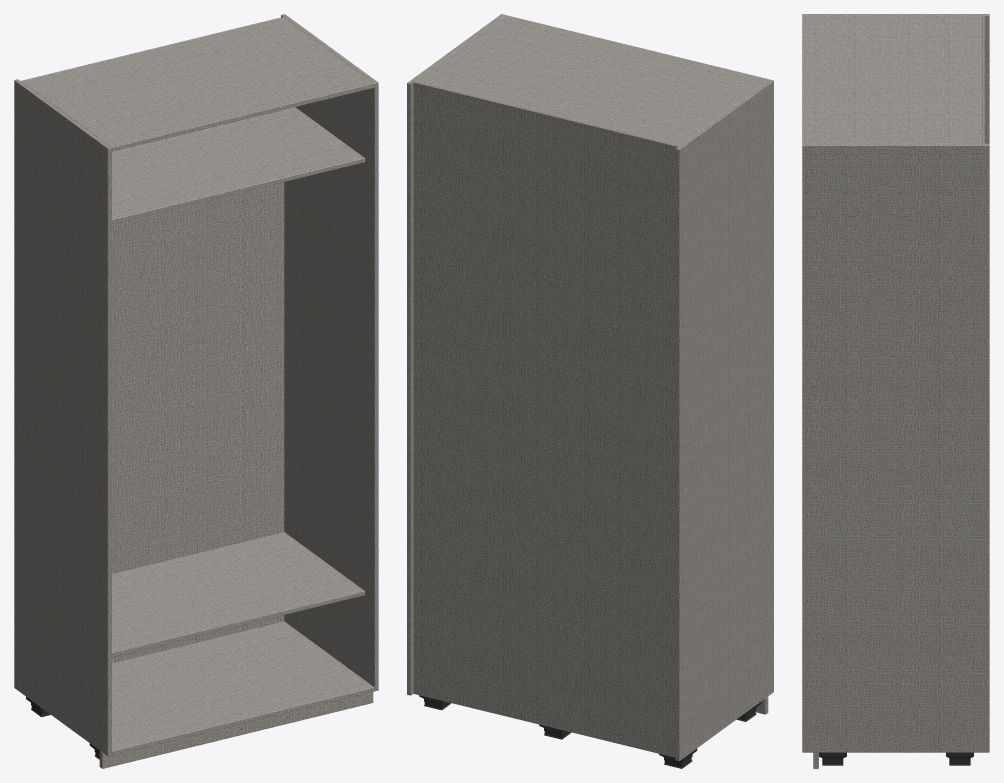
The model's file is cbib12154.gltf.
3 renders of one model, left to right at view 1: azimuth 30°, elevation 25°; view 2: azimuth 150°, elevation 25°; view 3: azimuth 270°, elevation 25°, orthographic.
Parts seen in each view (by area): view 1: CBIB12154; view 2: CBIB12154; view 3: CBIB12154.
Part boxes in pixels (x1,y1,x2,y2): CBIB12154: (14, 14, 378, 768); CBIB12154: (407, 14, 773, 768); CBIB12154: (802, 14, 989, 768).
Bounding box in the file's own units: 1 × 2.2 × 0.6.
Materials: 3 (2 with a texture image).
